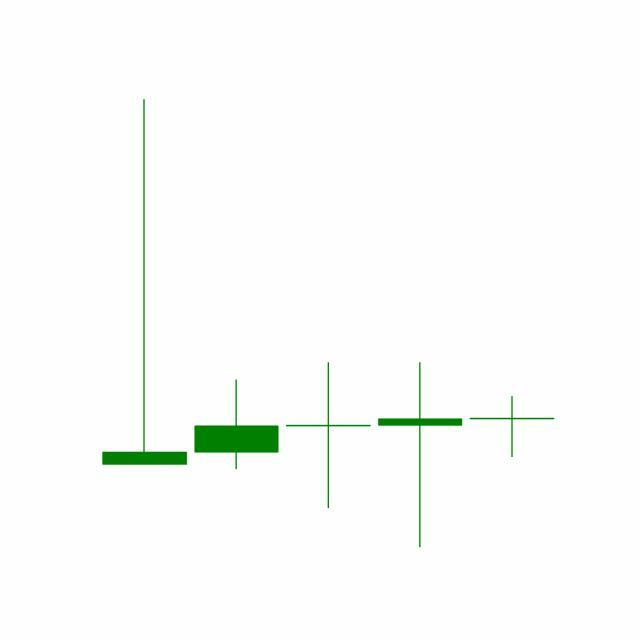Spinning Top: (466, 395, 559, 459)
